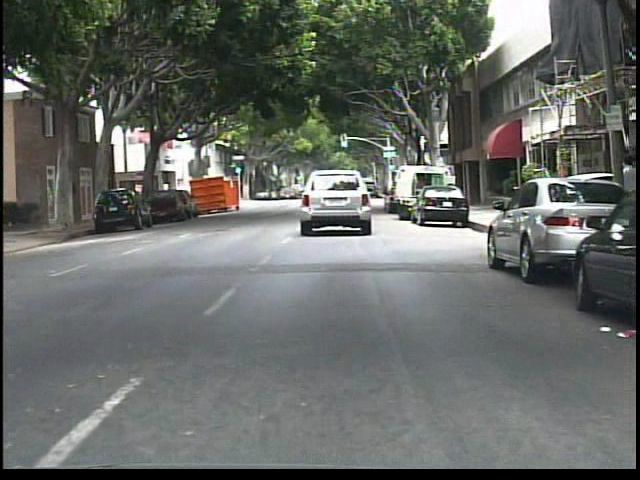person: (603, 150, 639, 260)
